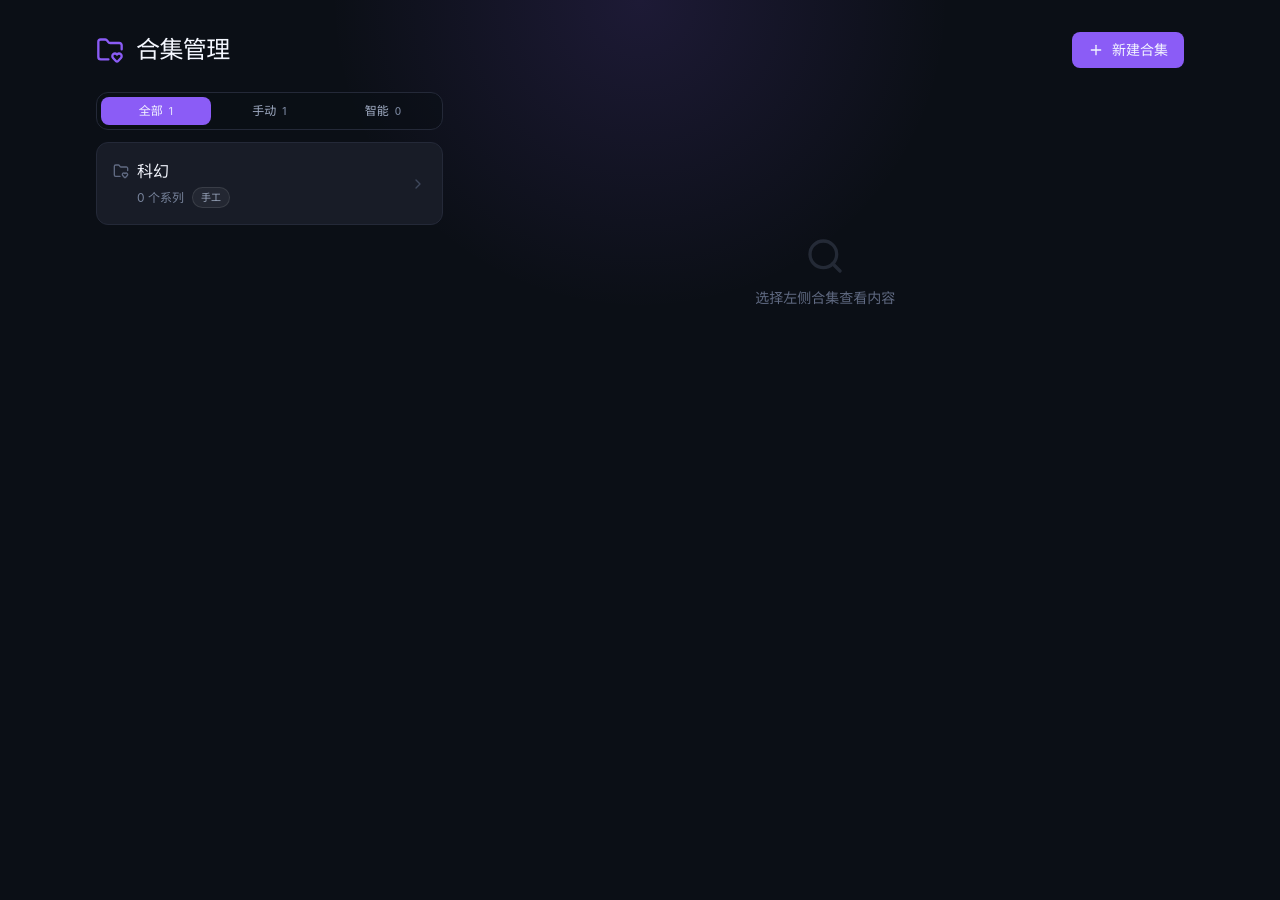
新建合集撞名 › 反向判据：建号成功时不提示重名并关掉弹窗
Expected: the text "科幻" is shown, [137, 159, 169, 183]
Click the button "新建合集" at (1128, 50), box [1072, 32, 1184, 68]
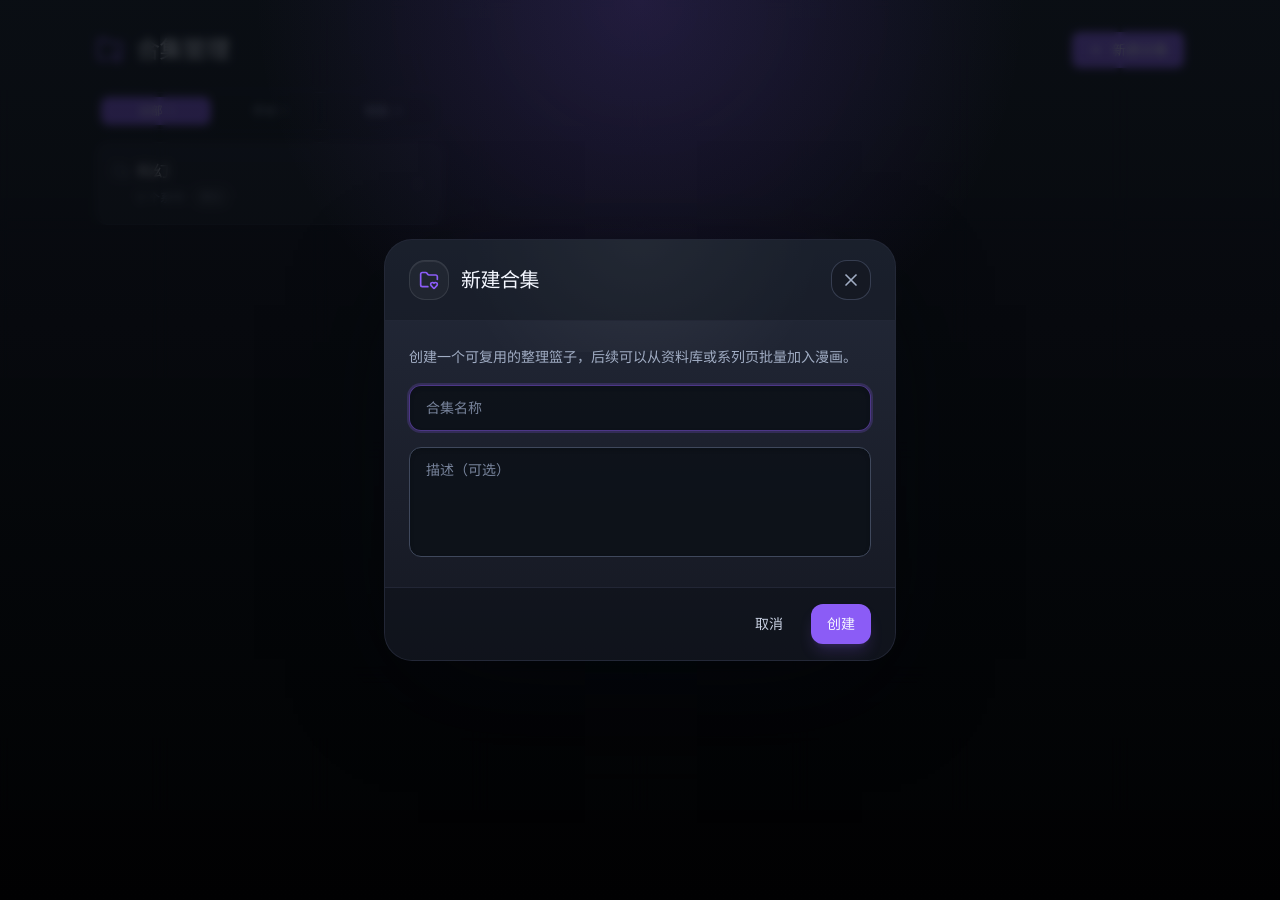
Type "奇幻" into the field with placeholder "合集名称" at (640, 408), box [409, 385, 871, 431]
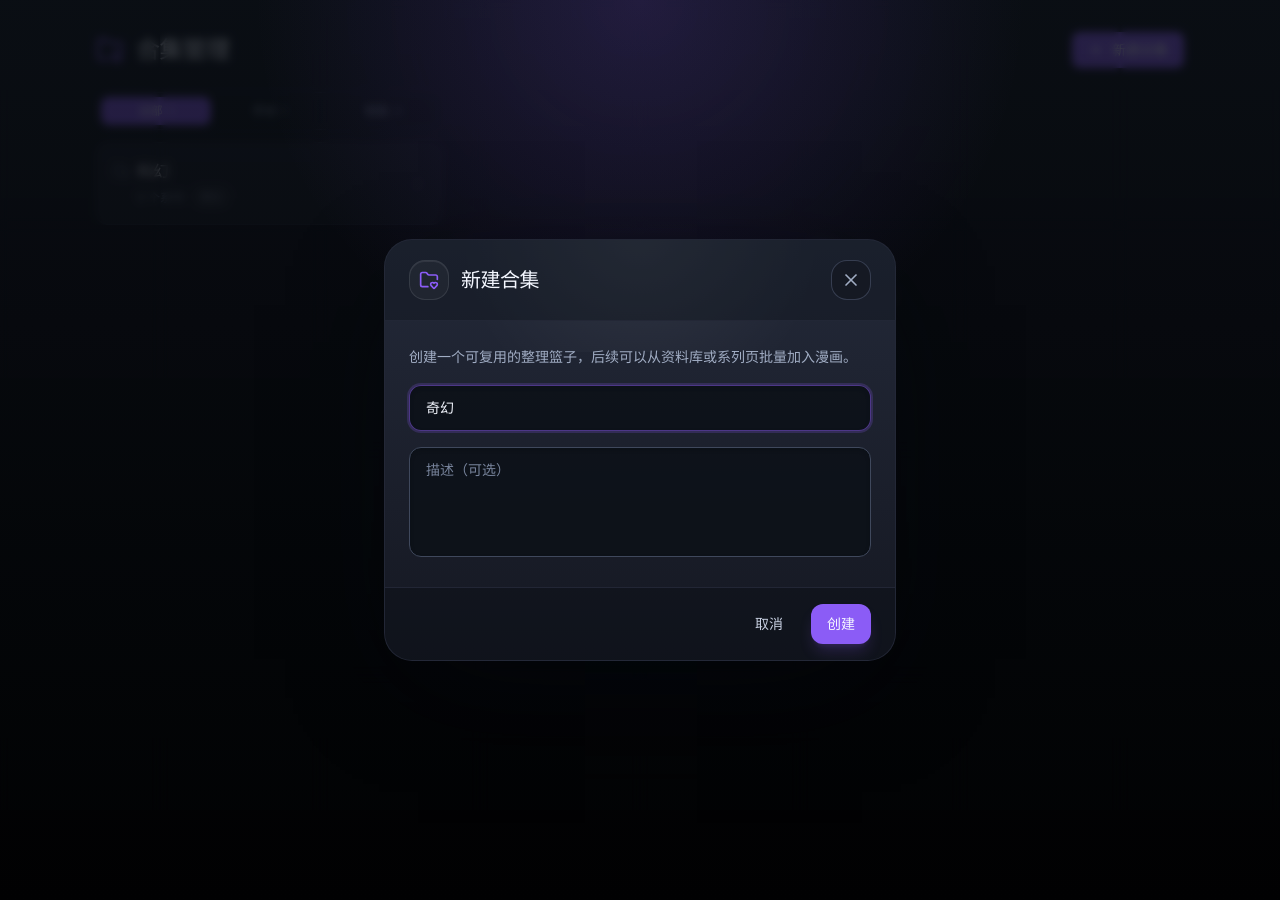
Click the button "创建" at (841, 624), box [811, 604, 871, 644]
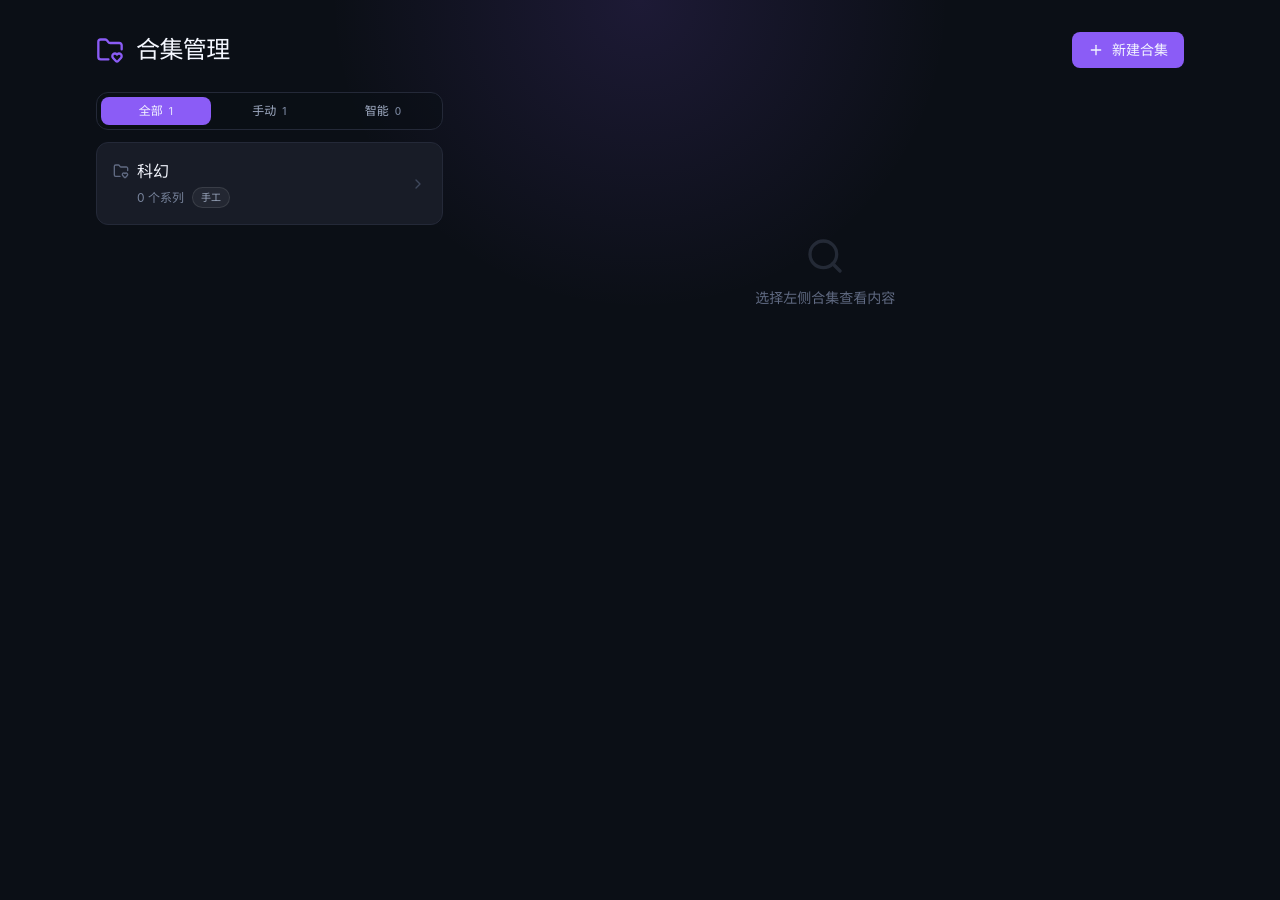
Now the field with placeholder "合集名称" is gone
